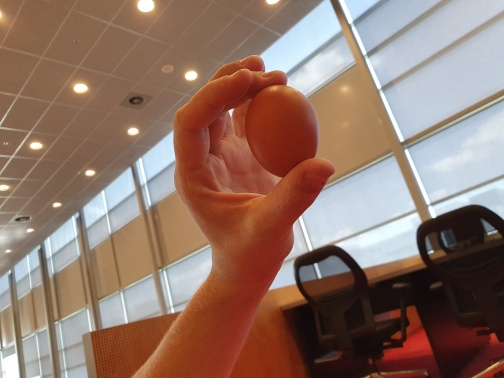egg: (244, 85, 320, 180)
